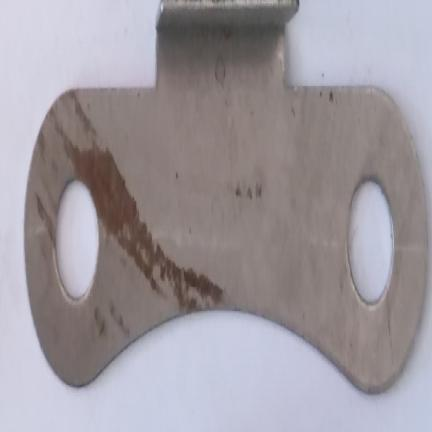besi_tidak_karat: (24, 0, 428, 392), (71, 139, 220, 312)
